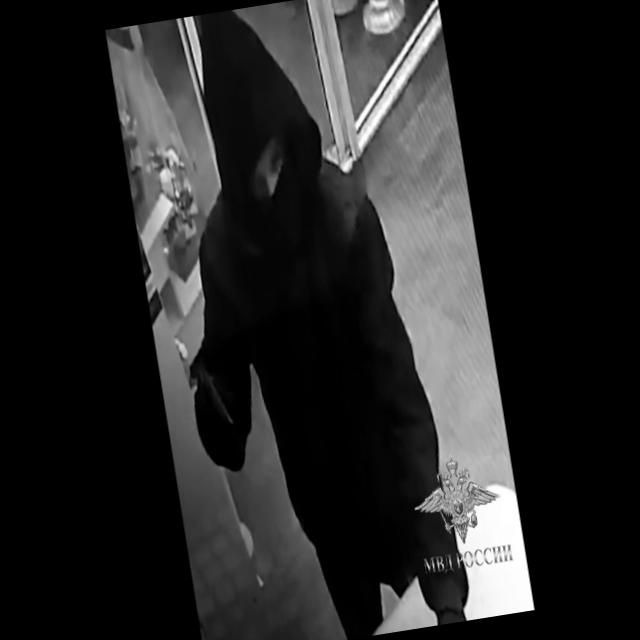gun: (194, 355, 252, 474)
person with a gun: (140, 8, 465, 640)
